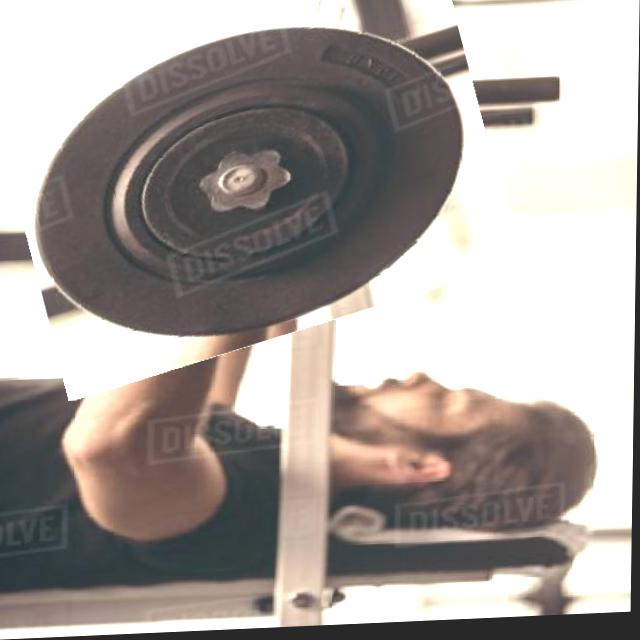barbell: (6, 1, 506, 378)
